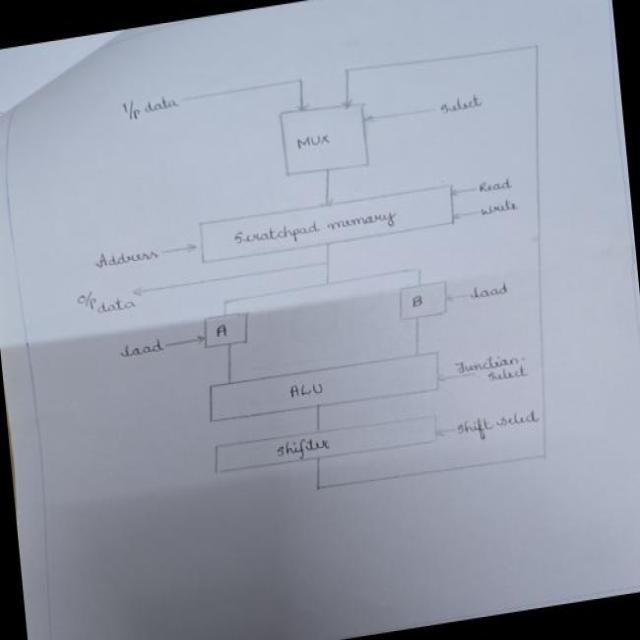Figure Detection - v3 Dataset Version2: (41, 0, 612, 582)
